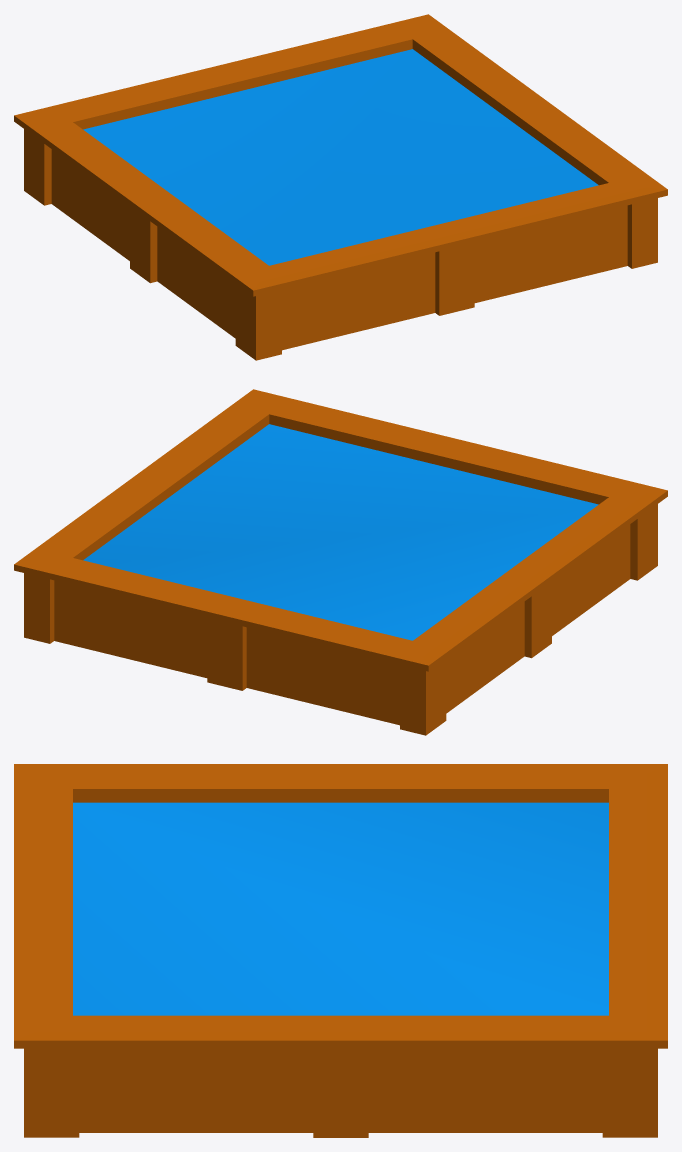
File: sandbox.obj
3 views of the same model, one above another, from view 1: azimuth 30°, elevation 25°; view 2: azimuth 150°, elevation 25°; view 3: azimuth 270°, elevation 25° (orthographic). The views are drawn at different scales.
Parts seen in each view (by area): view 1: obj1, obj2; view 2: obj1, obj2; view 3: obj1, obj2.
Boxes of the visible parts, x1,y1,x2,y2 form: obj1: (14,14,667,360); obj2: (83,49,598,265); obj1: (14,389,667,735); obj2: (83,424,598,640); obj1: (14,764,667,1137); obj2: (73,802,608,1015).
Size of the model in its own units: 2 by 0.3428 by 2.
